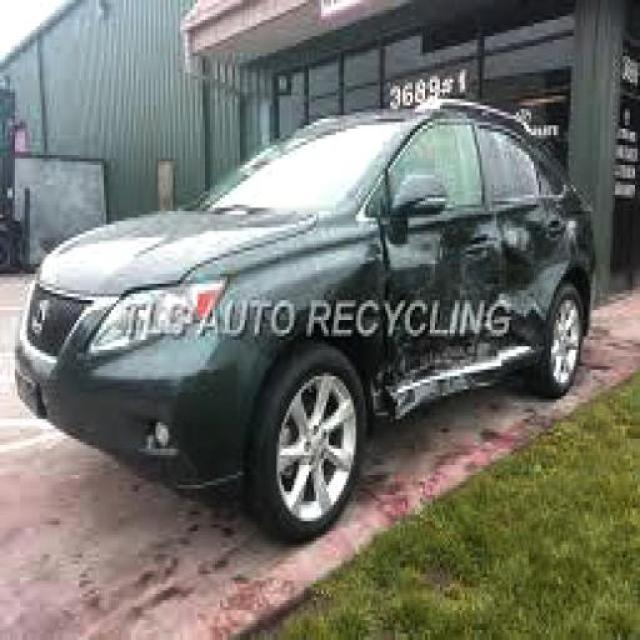car damage: (366, 191, 574, 424)
